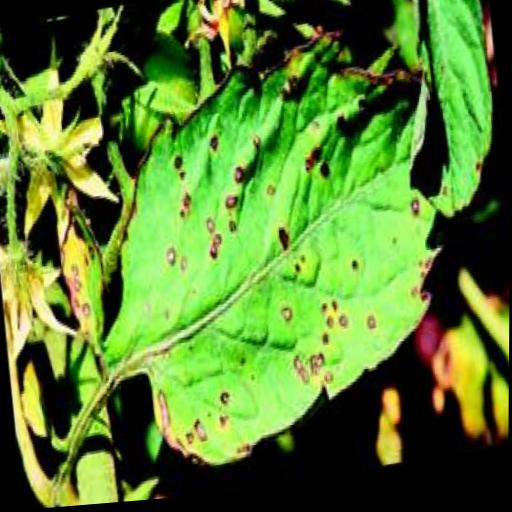Bacterial Spot: (82, 45, 466, 485)
